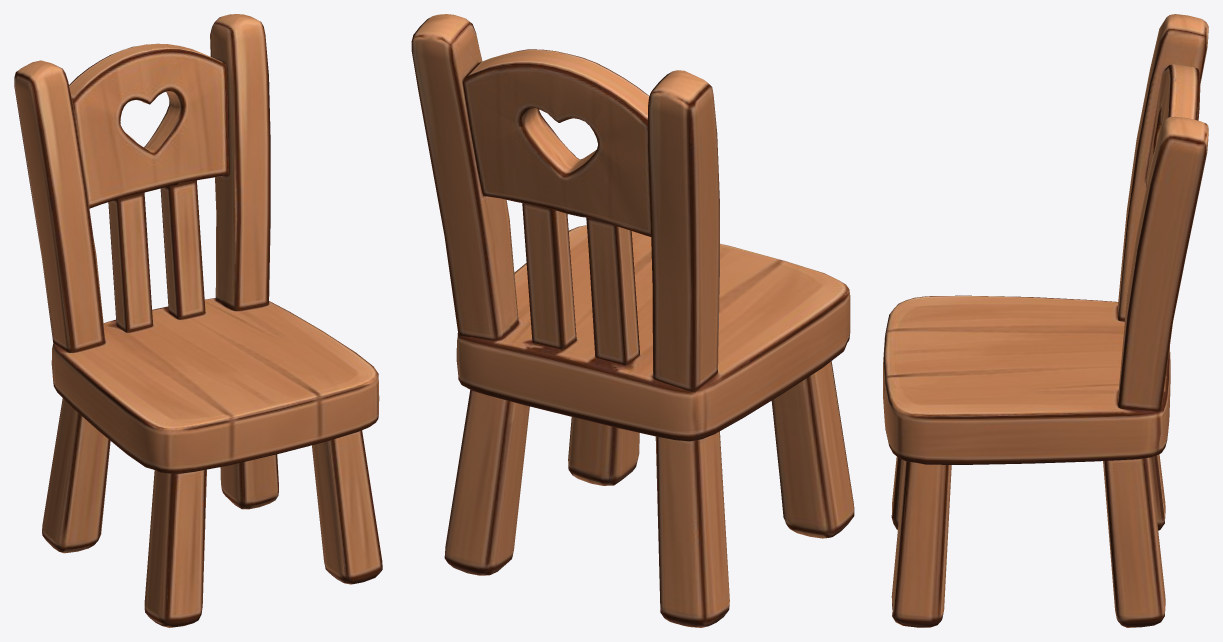
File: item-chair.glb
3 views of the same model, side by side, from view 1: azimuth 30°, elevation 25°; view 2: azimuth 150°, elevation 25°; view 3: azimuth 270°, elevation 25° (orthographic). The views are drawn at different scales.
Bounding box in the file's own units: 0.4976 × 0.9502 × 0.5527.
1 material, 1 textured.
